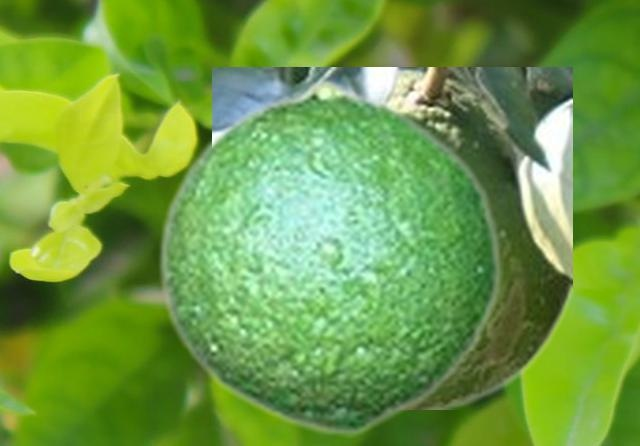dalandan: (155, 77, 502, 436), (212, 67, 571, 408)
